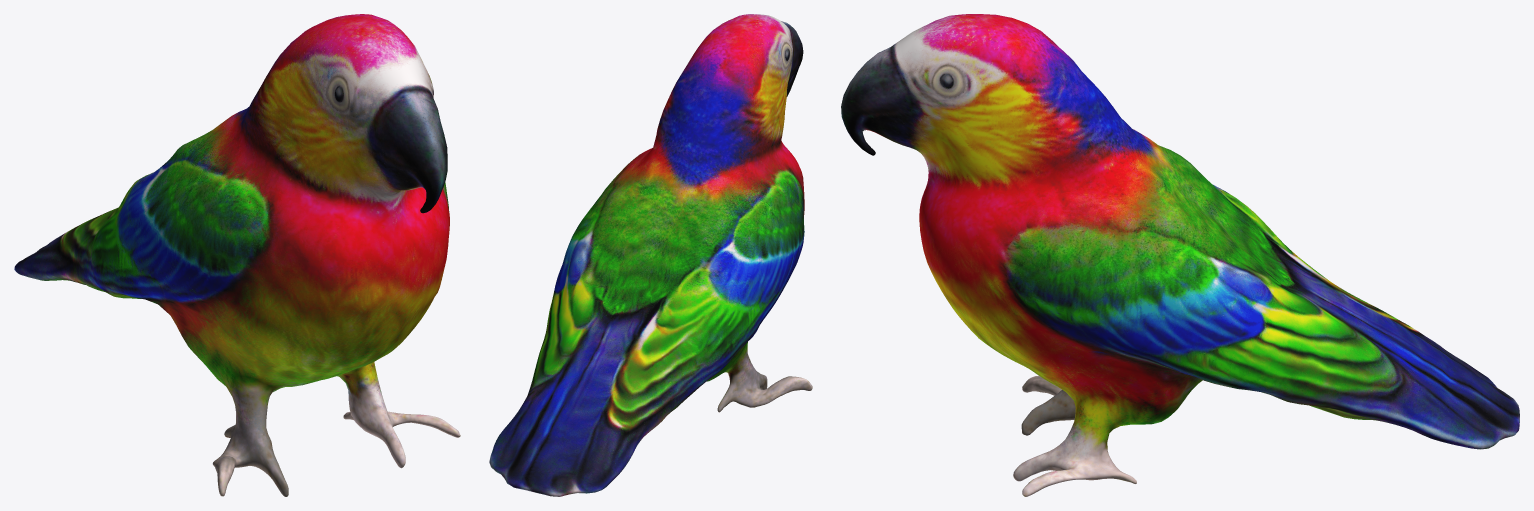
Rendered from Parrot_Quad.obj.
The picture shows the model from 3 angles, left to right: view 1: azimuth 30°, elevation 25°; view 2: azimuth 150°, elevation 25°; view 3: azimuth 270°, elevation 25°; orthographic projection. The views are drawn at different scales.
Parts seen in each view (by area): view 1: Parrot_Quad; view 2: Parrot_Quad; view 3: Parrot_Quad.
Part boxes in pixels (box(x1,y1,x2,y2)): Parrot_Quad: box(14, 14, 460, 496); Parrot_Quad: box(489, 14, 812, 496); Parrot_Quad: box(841, 14, 1519, 496).
Size of the model in its own units: 0.1883 by 0.3298 by 0.4614.
Materials: 1 (1 with a texture image).
